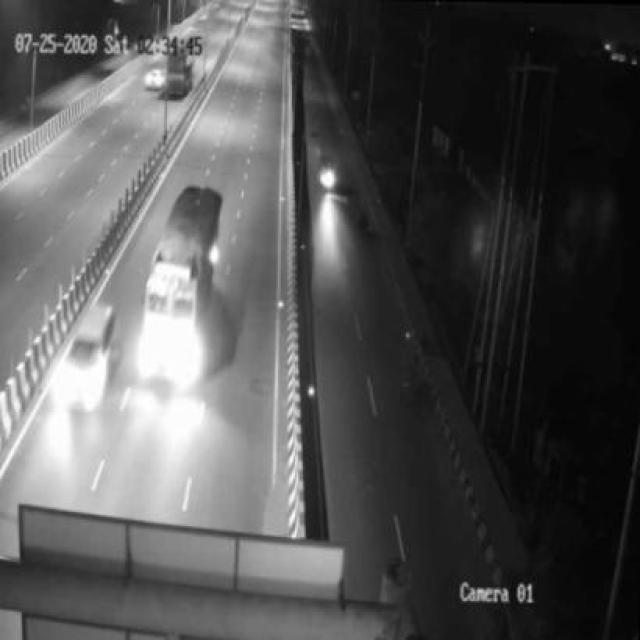car: (47, 298, 112, 417)
